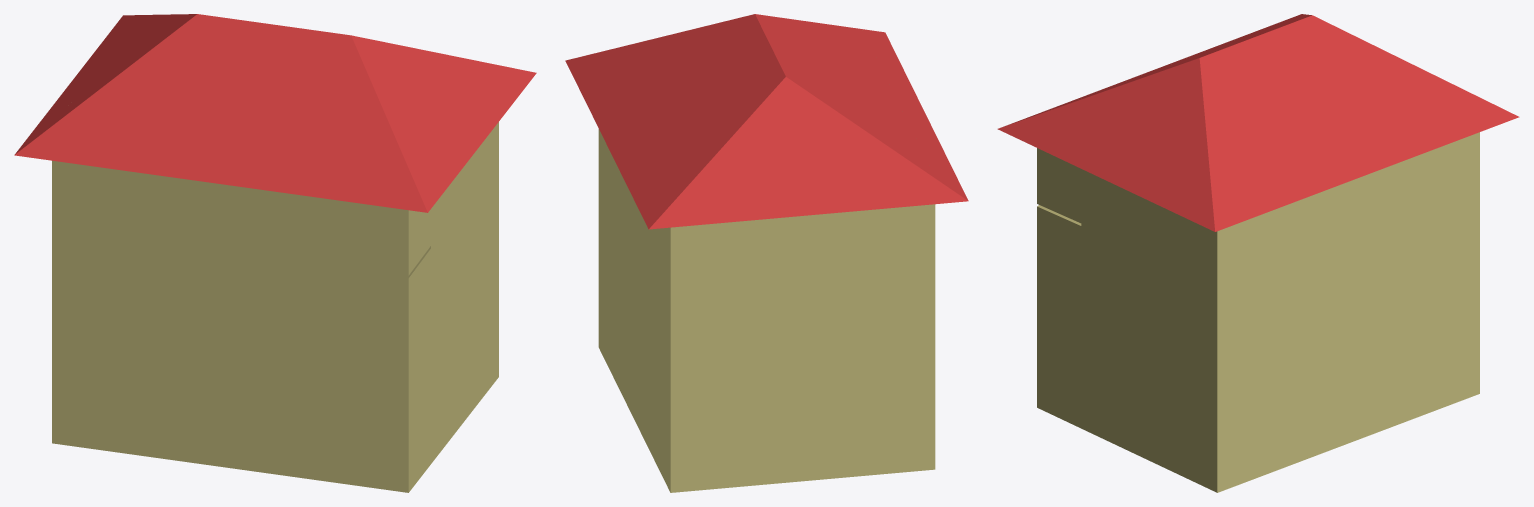
3 views of the same model, side by side, from view 1: azimuth 30°, elevation 25°; view 2: azimuth 150°, elevation 25°; view 3: azimuth 270°, elevation 25° (orthographic). The views are drawn at different scales.
Visible parts, largest first — view 1: group_5, group_3, group_4; view 2: group_5, group_3, group_4; view 3: group_5, group_3, group_4.
Boxes of the visible parts, <box> form: group_5: <box>52,122,498,492</box>; group_3: <box>15,14,495,212</box>; group_4: <box>14,64,536,212</box>; group_5: <box>598,129,935,492</box>; group_3: <box>599,14,966,229</box>; group_4: <box>565,29,968,228</box>; group_5: <box>1037,132,1479,492</box>; group_3: <box>998,14,1514,226</box>; group_4: <box>997,14,1519,231</box>.
Bounding box in the file's own units: 18.27 × 18.5 × 14.18.
